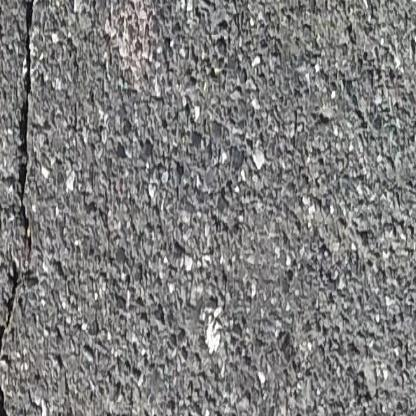Cracks: (16, 0, 41, 262), (0, 258, 24, 416)
